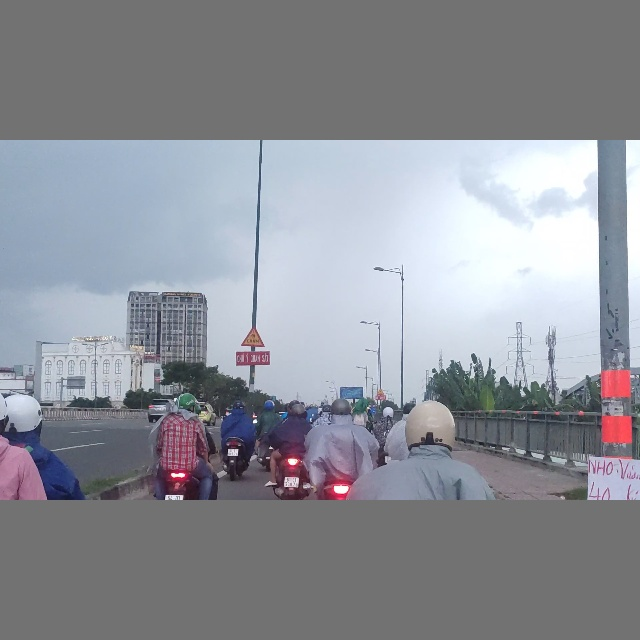W.245a: (240, 325, 265, 347)
